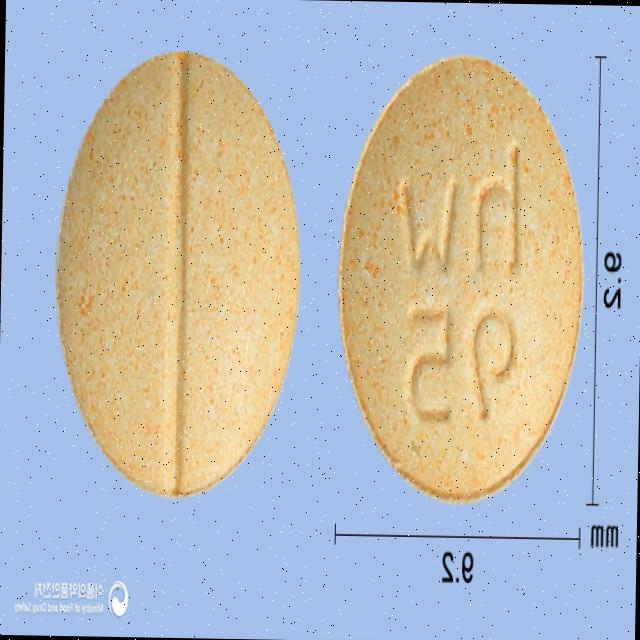Doxy: (331, 51, 588, 506)
